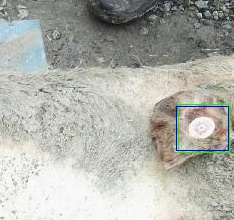text: (178, 104, 229, 152)
